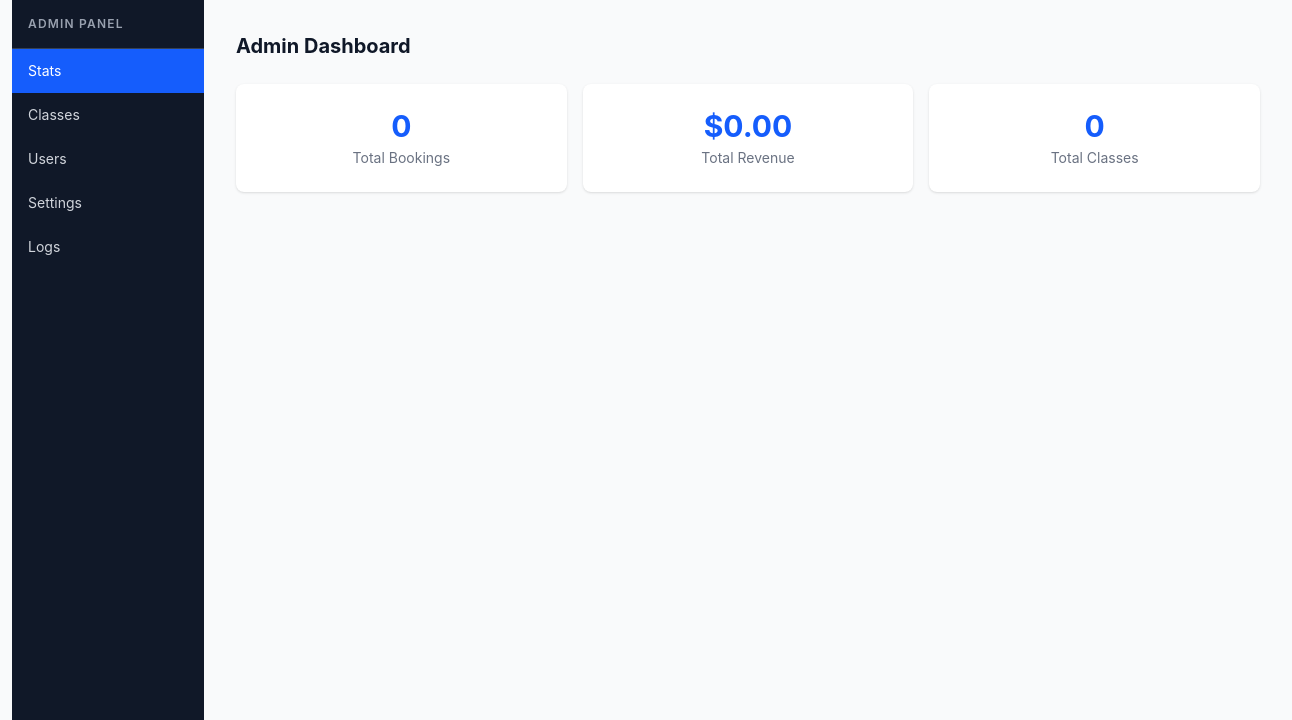
Admin Users tab – search › matches partial name across multiple users
The image size is (1292, 720).
Click the button "Users".
click(108, 159)  # box [12, 137, 204, 181]
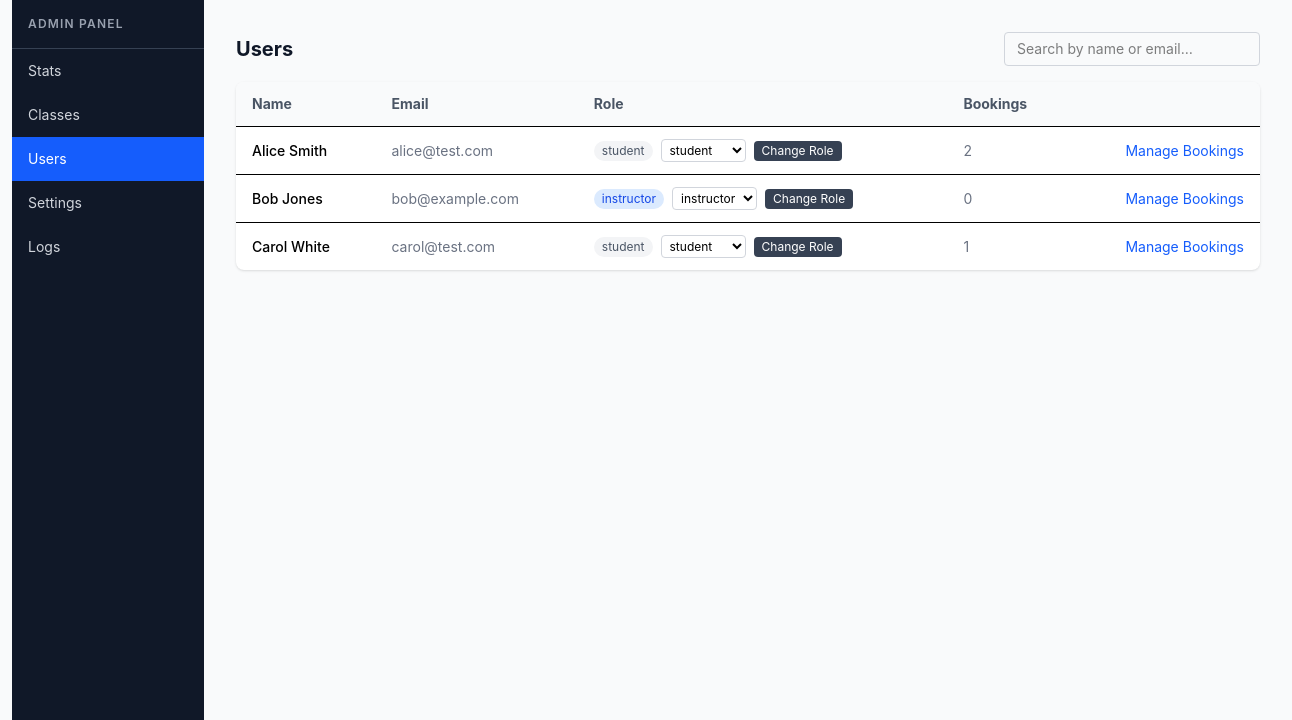
Check: the text "Alice Smith" is shown, box [236, 126, 376, 174]
Type "test.com" into the field named "search users".
click(1132, 49); type("test.com")  # box [1004, 32, 1260, 66]
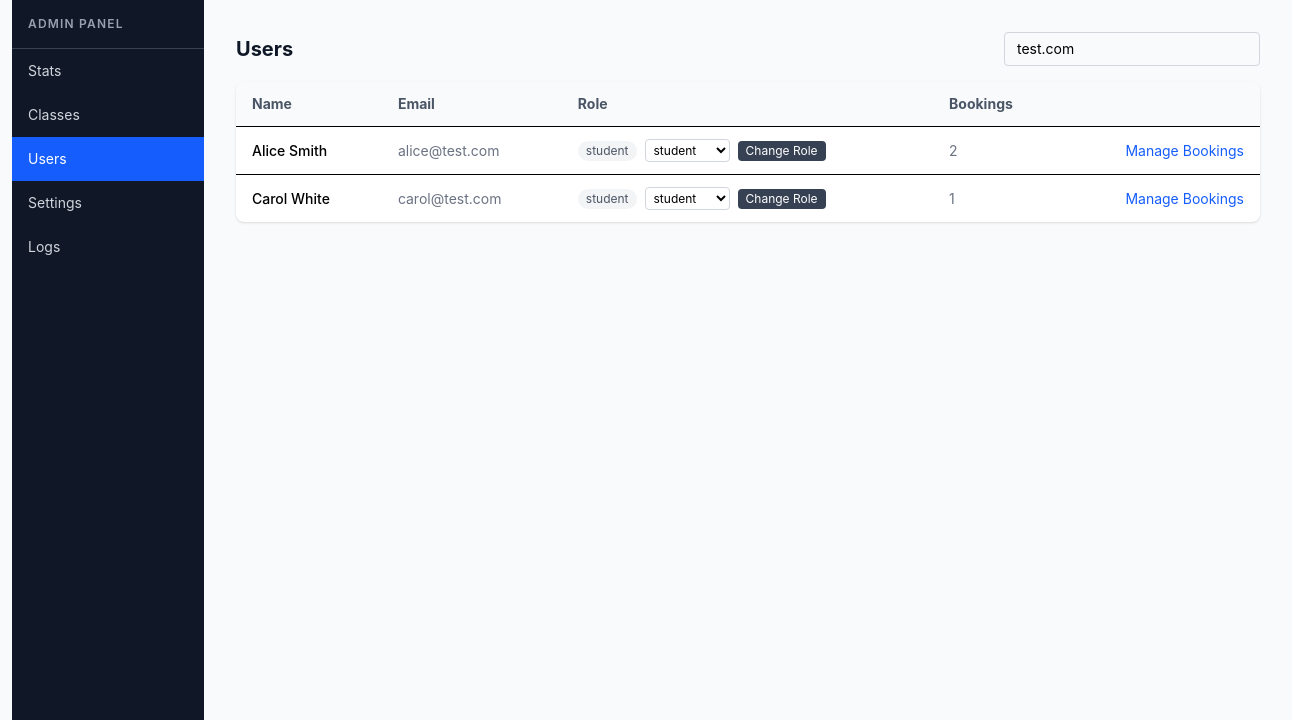
Check: the text "Alice Smith" is shown, box [236, 126, 382, 174]
Check: the text "Carol White" is shown, box [236, 174, 382, 222]
Check: the text "Bob Jones" is gone
